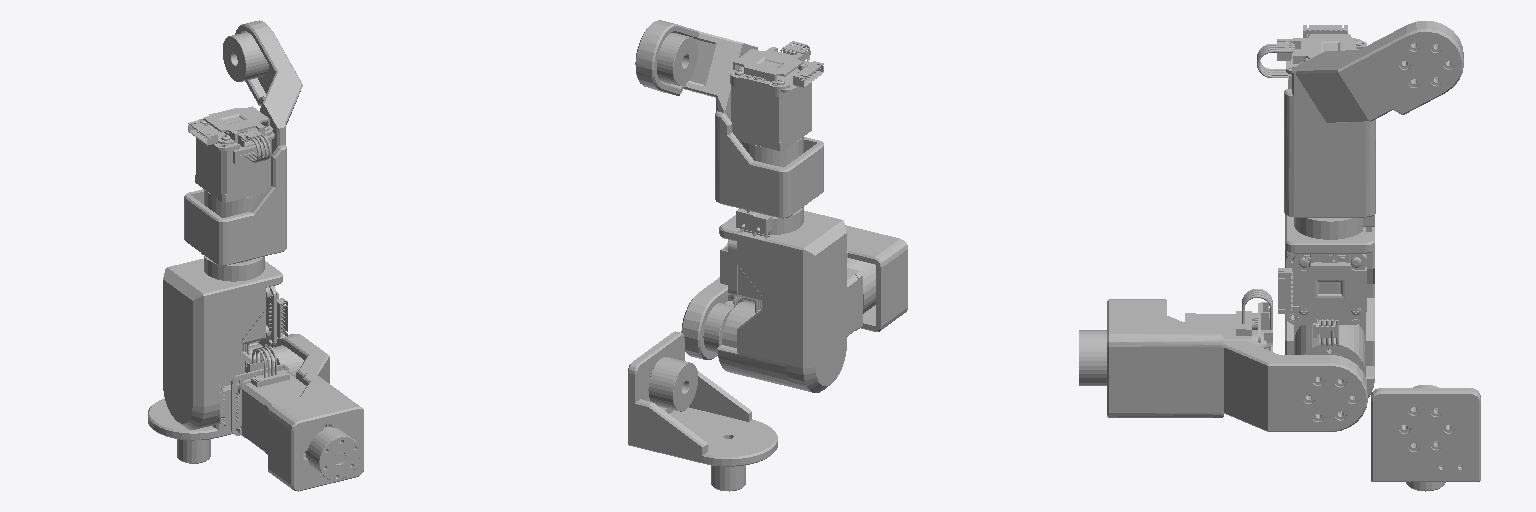
robot.urdf — URDF_XG_Robot_Arm_Step_Urdf_V1:
<?xml version="1.0" encoding="utf-8"?>
<!-- This URDF was automatically created by SolidWorks to URDF Exporter! Originally created by [author] ([email redacted]) 
     Commit Version: 1.6.0-4-g7f85cfe  Build Version: 1.6.7995.38578
     For more information, please see http://wiki.ros.org/sw_urdf_exporter -->
<robot
  name="URDF_XG_Robot_Arm_Step_Urdf_V1">
  <link
    name="base_link">
    <inertial>
      <origin
        xyz="-6.62271790898677E-05 -0.000162301184482969 0.0589260607237122"
        rpy="0 0 0" />
      <mass
        value="0.553880194517112" />
      <inertia
        ixx="0.00125395744532095"
        ixy="6.30504993363177E-07"
        ixz="4.37302567472786E-06"
        iyy="0.00125390287854359"
        iyz="-4.01972122790883E-06"
        izz="0.000721320676009685" />
    </inertial>
    <visual>
      <origin
        xyz="0 0 0"
        rpy="0 0 0" />
      <geometry>
        <mesh
          filename="package://URDF_XG_Robot_Arm_Step_Urdf_V1/meshes/base_link.STL" />
      </geometry>
      <material
        name="">
        <color
          rgba="0.752941176470588 0.752941176470588 0.752941176470588 1" />
      </material>
    </visual>
    <collision>
      <origin
        xyz="0 0 0"
        rpy="0 0 0" />
      <geometry>
        <mesh
          filename="package://URDF_XG_Robot_Arm_Step_Urdf_V1/meshes/base_link.STL" />
      </geometry>
    </collision>
  </link>
  <link
    name="link1">
    <inertial>
      <origin
        xyz="0.0243405579392273 0.000159015425943267 0.00639309218537437"
        rpy="0 0 0" />
      <mass
        value="0.0608469523040024" />
      <inertia
        ixx="2.56788832154839E-05"
        ixy="1.15776886055255E-07"
        ixz="-1.10292460962293E-05"
        iyy="3.70074391646153E-05"
        iyz="-3.2599674177669E-08"
        izz="3.87763473470932E-05" />
    </inertial>
    <visual>
      <origin
        xyz="0 0 0"
        rpy="0 0 0" />
      <geometry>
        <mesh
          filename="package://URDF_XG_Robot_Arm_Step_Urdf_V1/meshes/link1.STL" />
      </geometry>
      <material
        name="">
        <color
          rgba="0.752941176470588 0.752941176470588 0.752941176470588 1" />
      </material>
    </visual>
    <collision>
      <origin
        xyz="0 0 0"
        rpy="0 0 0" />
      <geometry>
        <mesh
          filename="package://URDF_XG_Robot_Arm_Step_Urdf_V1/meshes/link1.STL" />
      </geometry>
    </collision>
  </link>
  <joint
    name="joint1"
    type="continuous">
    <origin
      xyz="0 0 0.1419"
      rpy="0 0 0" />
    <parent
      link="base_link" />
    <child
      link="link1" />
    <axis
      xyz="0 0 1" />
  </joint>
  <link
    name="link2">
    <inertial>
      <origin
        xyz="-0.100016791988138 -0.00010706635232322 -0.0382835162524506"
        rpy="0 0 0" />
      <mass
        value="0.433546101826059" />
      <inertia
        ixx="0.000140434169716263"
        ixy="-5.94210696535013E-08"
        ixz="-1.1298489980335E-06"
        iyy="0.00105045835658707"
        iyz="-4.8684776465153E-08"
        izz="0.00104172634579533" />
    </inertial>
    <visual>
      <origin
        xyz="0 0 0"
        rpy="0 0 0" />
      <geometry>
        <mesh
          filename="package://URDF_XG_Robot_Arm_Step_Urdf_V1/meshes/link2.STL" />
      </geometry>
      <material
        name="">
        <color
          rgba="0.752941176470588 0.752941176470588 0.752941176470588 1" />
      </material>
    </visual>
    <collision>
      <origin
        xyz="0 0 0"
        rpy="0 0 0" />
      <geometry>
        <mesh
          filename="package://URDF_XG_Robot_Arm_Step_Urdf_V1/meshes/link2.STL" />
      </geometry>
    </collision>
  </link>
  <joint
    name="joint2"
    type="revolute">
    <origin
      xyz="0.0275 0 0.0241"
      rpy="0 1.5708 0" />
    <parent
      link="link1" />
    <child
      link="link2" />
    <axis
      xyz="0 0 1" />
    <limit
      lower="-1.5708"
      upper="1.5708"
      effort="0"
      velocity="0" />
  </joint>
  <link
    name="link3">
    <inertial>
      <origin
        xyz="0.0479933927894934 -0.0413167220936428 -0.0165548245293061"
        rpy="0 0 0" />
      <mass
        value="0.163443679464034" />
      <inertia
        ixx="7.61011370618006E-05"
        ixy="2.70605976616821E-05"
        ixz="4.05496538702261E-05"
        iyy="0.000132142857400073"
        iyz="-1.53294424817123E-05"
        izz="0.000133520429120662" />
    </inertial>
    <visual>
      <origin
        xyz="0 0 0"
        rpy="0 0 0" />
      <geometry>
        <mesh
          filename="package://URDF_XG_Robot_Arm_Step_Urdf_V1/meshes/link3.STL" />
      </geometry>
      <material
        name="">
        <color
          rgba="0.752941176470588 0.752941176470588 0.752941176470588 1" />
      </material>
    </visual>
    <collision>
      <origin
        xyz="0 0 0"
        rpy="0 0 0" />
      <geometry>
        <mesh
          filename="package://URDF_XG_Robot_Arm_Step_Urdf_V1/meshes/link3.STL" />
      </geometry>
    </collision>
  </link>
  <joint
    name="joint3"
    type="revolute">
    <origin
      xyz="-0.2 0 0"
      rpy="0 0 0" />
    <parent
      link="link2" />
    <child
      link="link3" />
    <axis
      xyz="0 0 1" />
    <limit
      lower="-1.5708"
      upper="0"
      effort="0"
      velocity="0" />
  </joint>
  <link
    name="link4">
    <inertial>
      <origin
        xyz="-0.00682767078892278 2.81608060713895E-05 -0.0585544918262343"
        rpy="0 0 0" />
      <mass
        value="0.178465854690518" />
      <inertia
        ixx="0.000111293192127187"
        ixy="1.56493108952721E-07"
        ixz="-4.12005755743812E-07"
        iyy="0.000105420709556455"
        iyz="1.1762751671768E-07"
        izz="4.42311174651251E-05" />
    </inertial>
    <visual>
      <origin
        xyz="0 0 0"
        rpy="0 0 0" />
      <geometry>
        <mesh
          filename="package://URDF_XG_Robot_Arm_Step_Urdf_V1/meshes/link4.STL" />
      </geometry>
      <material
        name="">
        <color
          rgba="0.752941176470588 0.752941176470588 0.752941176470588 1" />
      </material>
    </visual>
    <collision>
      <origin
        xyz="0 0 0"
        rpy="0 0 0" />
      <geometry>
        <mesh
          filename="package://URDF_XG_Robot_Arm_Step_Urdf_V1/meshes/link4.STL" />
      </geometry>
    </collision>
  </link>
  <joint
    name="joint4"
    type="continuous">
    <origin
      xyz="0.096 -0.047631 -0.0275"
      rpy="0 -1.5708 0" />
    <parent
      link="link3" />
    <child
      link="link4" />
    <axis
      xyz="0 0 1" />
  </joint>
  <link
    name="link5">
    <inertial>
      <origin
        xyz="-0.000156431818421676 0.0617917966301192 0.015474716621298"
        rpy="0 0 0" />
      <mass
        value="0.15793222447205" />
      <inertia
        ixx="0.000135933655838788"
        ixy="-6.33132038696916E-08"
        ixz="-8.3886144493004E-09"
        iyy="5.60082572905535E-05"
        iyz="-3.96647905066164E-05"
        izz="0.000121456700565665" />
    </inertial>
    <visual>
      <origin
        xyz="0 0 0"
        rpy="0 0 0" />
      <geometry>
        <mesh
          filename="package://URDF_XG_Robot_Arm_Step_Urdf_V1/meshes/link5.STL" />
      </geometry>
      <material
        name="">
        <color
          rgba="0.752941176470588 0.752941176470588 0.752941176470588 1" />
      </material>
    </visual>
    <collision>
      <origin
        xyz="0 0 0"
        rpy="0 0 0" />
      <geometry>
        <mesh
          filename="package://URDF_XG_Robot_Arm_Step_Urdf_V1/meshes/link5.STL" />
      </geometry>
    </collision>
  </link>
  <joint
    name="joint5"
    type="revolute">
    <origin
      xyz="0.0255 0 -0.0885"
      rpy="3.1416 1.5708 0" />
    <parent
      link="link4" />
    <child
      link="link5" />
    <axis
      xyz="0 0 1" />
    <limit
      lower="-3.1416"
      upper="0"
      effort="0"
      velocity="0" />
  </joint>
  <link
    name="ee_link">
    <inertial>
      <origin
        xyz="-5.5511E-17 6.0774E-17 0.0078931"
        rpy="0 0 0" />
      <mass
        value="0.0088164" />
      <inertia
        ixx="6.5293E-07"
        ixy="-7.2762E-23"
        ixz="-1.8939E-21"
        iyy="6.5293E-07"
        iyz="2.5171E-21"
        izz="9.3068E-07" />
    </inertial>
    <visual>
      <origin
        xyz="0 0 0"
        rpy="0 0 0" />
      <geometry>
        <mesh
          filename="package://URDF_XG_Robot_Arm_Step_Urdf_V1/meshes/ee_link.STL" />
      </geometry>
      <material
        name="">
        <color
          rgba="0.75294 0.75294 0.75294 1" />
      </material>
    </visual>
    <collision>
      <origin
        xyz="0 0 0"
        rpy="0 0 0" />
      <geometry>
        <mesh
          filename="package://URDF_XG_Robot_Arm_Step_Urdf_V1/meshes/ee_link.STL" />
      </geometry>
    </collision>
  </link>
  <joint
    name="joint6"
    type="continuous">
    <origin
      xyz="0 0.109 0.0255"
      rpy="-1.5708 0 0" />
    <parent
      link="link5" />
    <child
      link="ee_link" />
    <axis
      xyz="0 0 1" />
  </joint>
</robot>

--- Facts derived from the render (not from the file) ---
3 views of the same robot in one strip: view 1: azimuth 30°, elevation 25°; view 2: azimuth 150°, elevation 25°; view 3: azimuth 270°, elevation 25° (orthographic).
Model URDF_XG_Robot_Arm_Step_Urdf_V1 with 7 links and 6 joints (3 revolute, 3 continuous), rooted at base_link, posed every joint at zero.
Links seen in each view (by area): view 1: link3, link4, link5, link1, ee_link; view 2: link3, link4, link1, link5; view 3: link5, link3, link4, link1, ee_link.
Boxes of the visible links, x1,y1,x2,y2 form: link3: (184,20,302,265); link4: (163,253,287,429); link5: (220,334,363,491); link1: (148,337,277,463); ee_link: (306,427,359,479); link3: (635,20,823,218); link4: (717,207,846,392); link1: (628,331,777,491); link5: (681,225,907,359); link5: (1107,289,1367,431); link3: (1257,21,1463,217); link4: (1278,215,1374,397); link1: (1371,385,1480,491); ee_link: (1079,330,1106,385).
Size in the robot's own frame: 0.088 by 0.2001 by 0.2725 metres.
5 mesh visuals loaded from 7 distinct referenced files (5 binary STL); not drawn: 2 (reference not matched to a file when rendering).